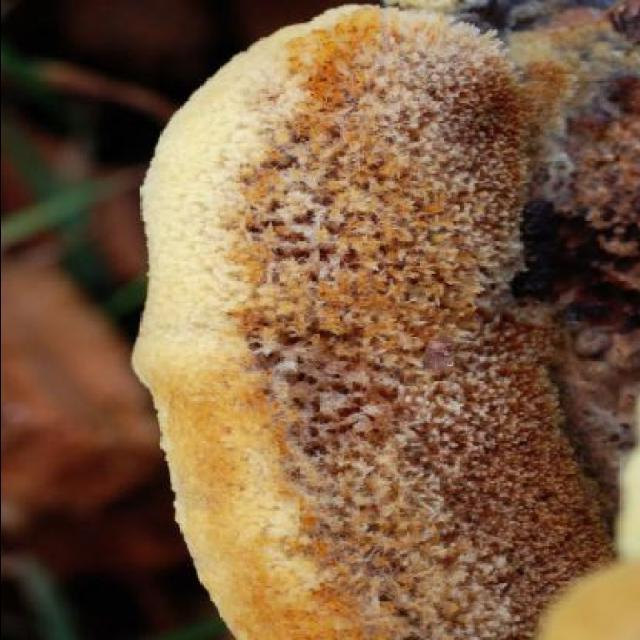Mushroom: (136, 0, 640, 637)
